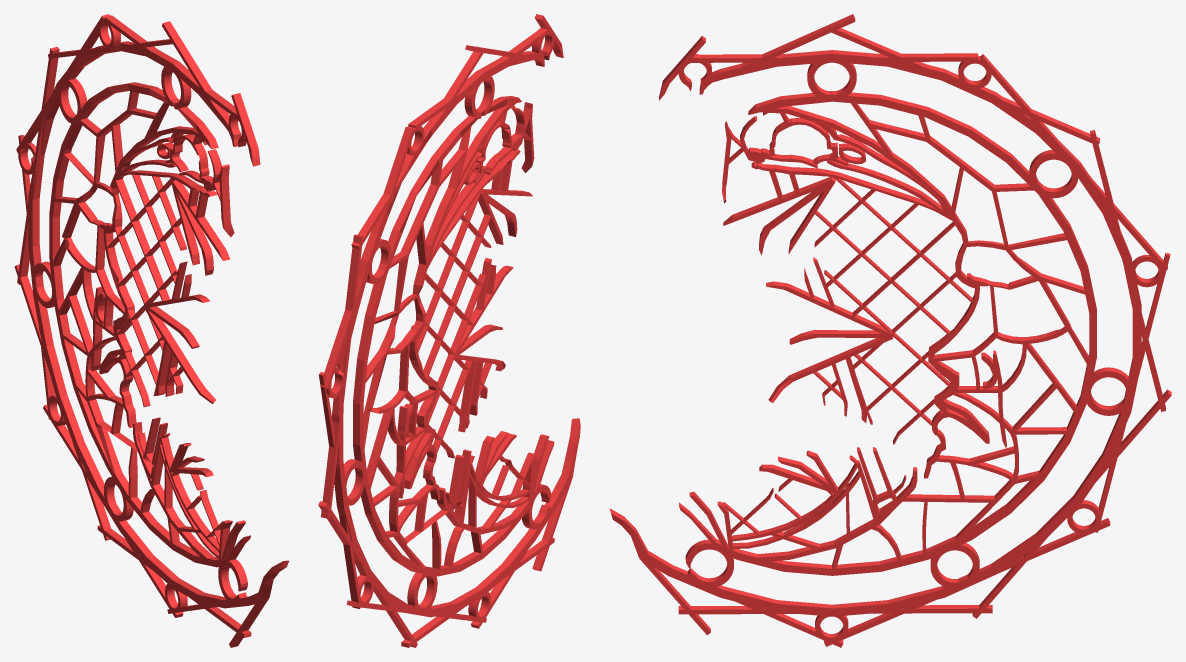
File: Window_Top_InnerMetal.fbx
The picture shows the model from 3 angles, left to right: view 1: azimuth 30°, elevation 25°; view 2: azimuth 150°, elevation 25°; view 3: azimuth 270°, elevation 25°; orthographic projection. The views are drawn at different scales.
Parts seen in each view (by area): view 1: metal_shape; view 2: metal_shape; view 3: metal_shape.
Boxes of the visible parts, <box> form: metal_shape: <box>14,14,288,647</box>; metal_shape: <box>318,14,580,647</box>; metal_shape: <box>609,14,1171,647</box>.
Size of the model in its own units: 9.6 by 353 by 285.
